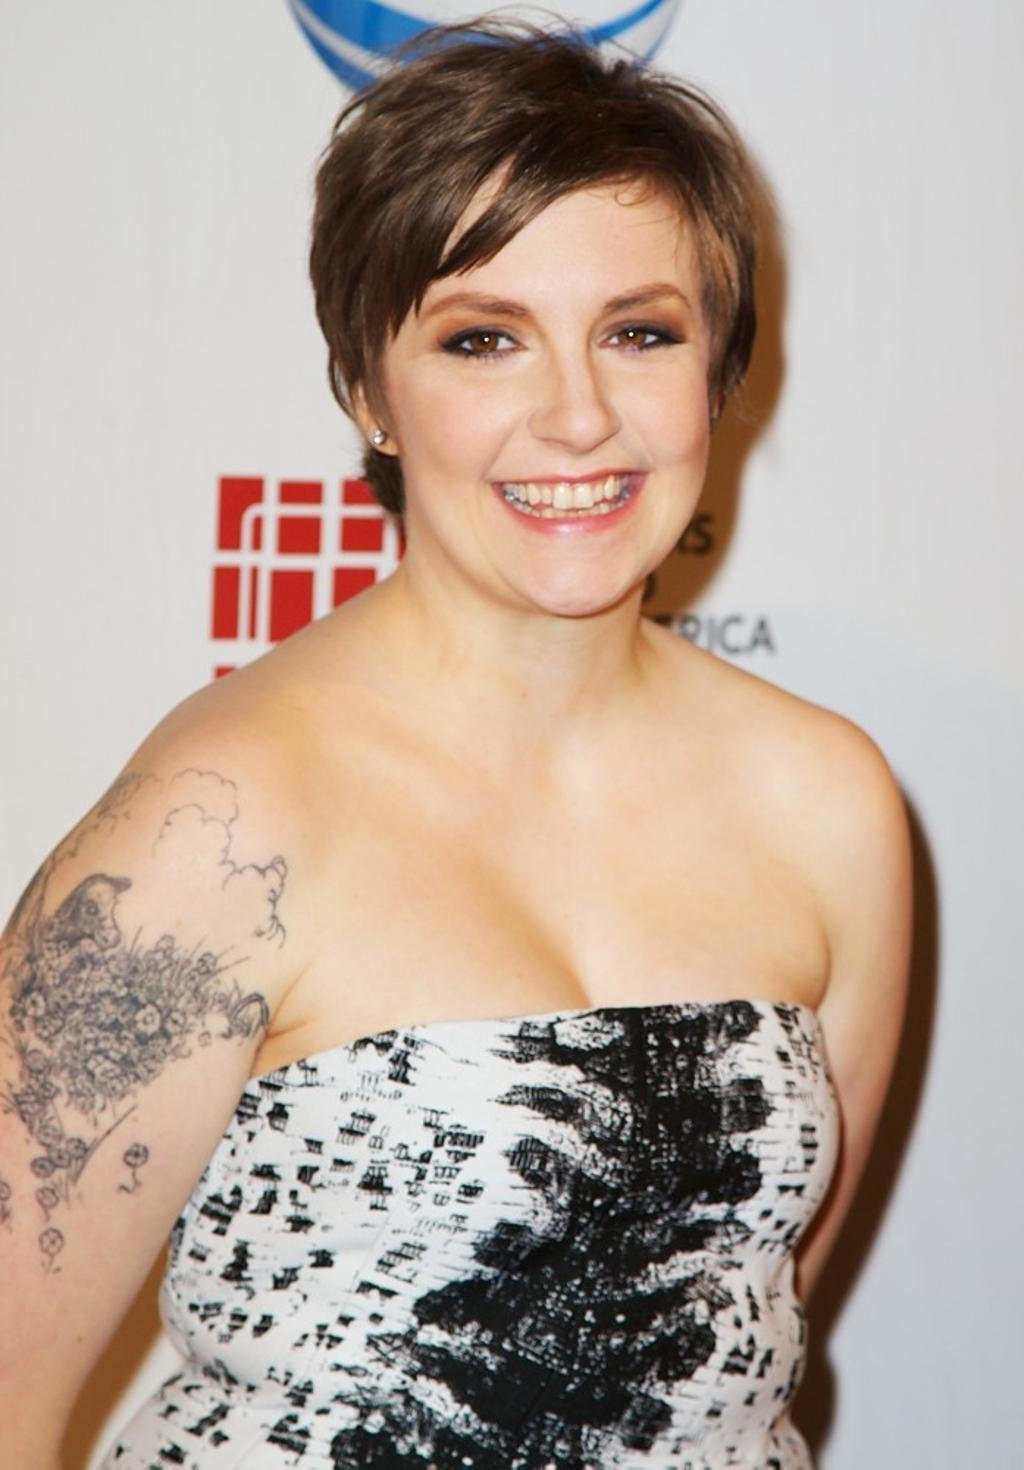face: (379, 152, 712, 611)
